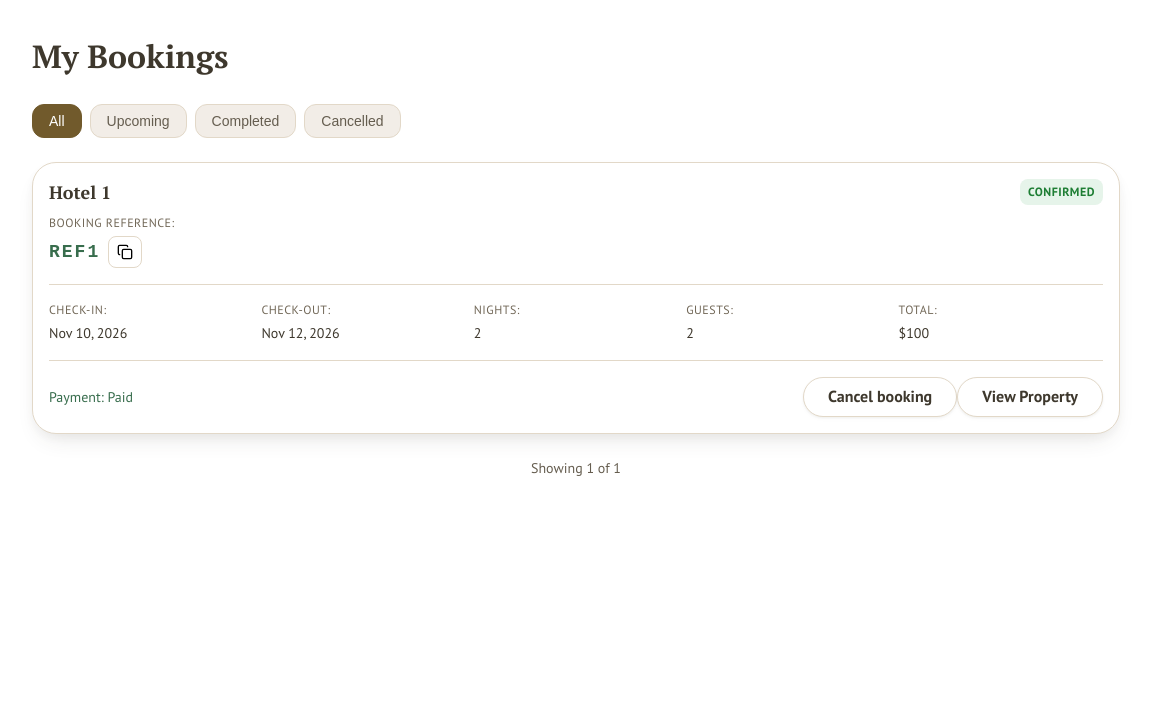
Scenario: BookingsPage pages › keeps the filter buttons when a filter has no bookings, so the guest can switch back
The width and height of the screenshot is (1152, 720).
Check: the link "Hotel 1" is shown, box x1=49 y1=180 x2=111 y2=204
Click the button with aria-label "Show completed bookings": {"x": 245, "y": 121} x1=195 y1=104 x2=296 y2=138
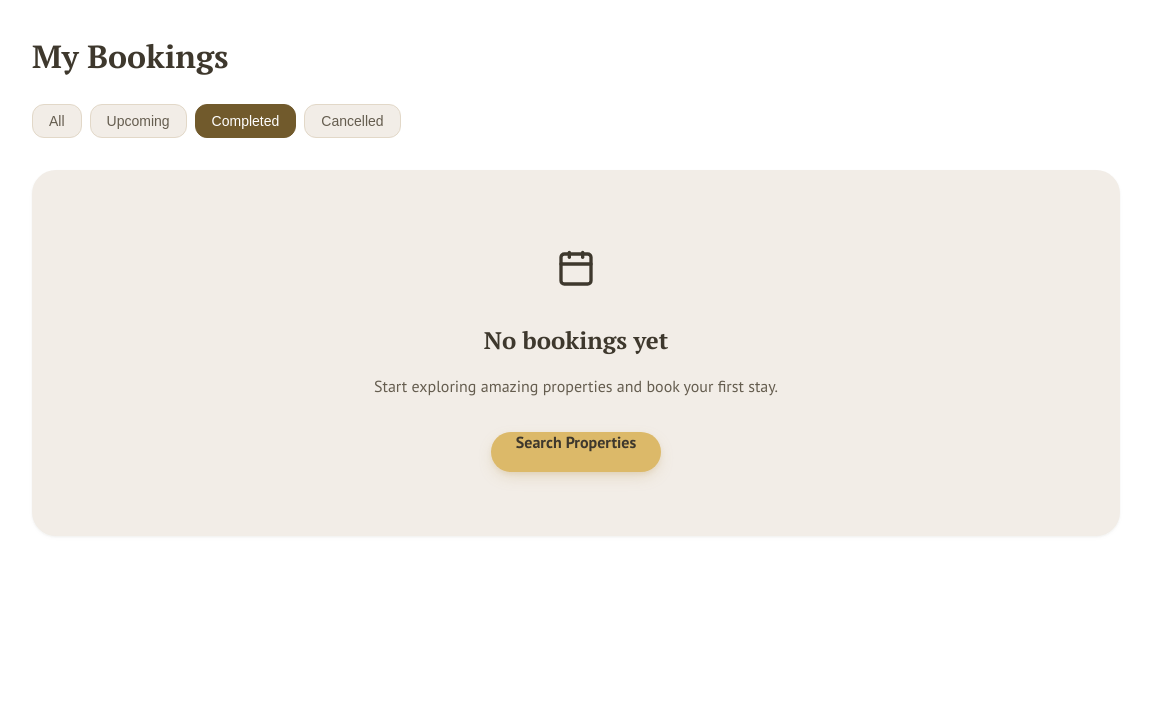
Check: the heading "No bookings yet" is shown, box x1=484 y1=324 x2=668 y2=356
Click the button with aria-label "Show all bookings": {"x": 57, "y": 121} x1=32 y1=104 x2=82 y2=138
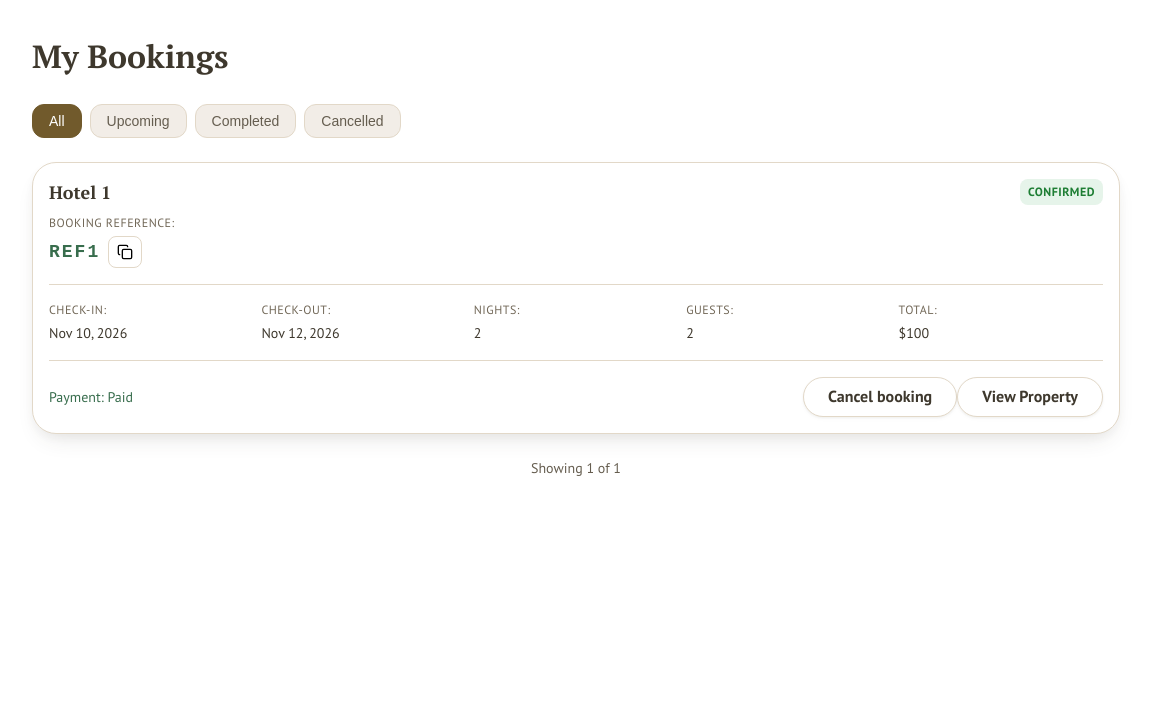
Check: the link "Hotel 1" is shown, box x1=49 y1=180 x2=111 y2=204
